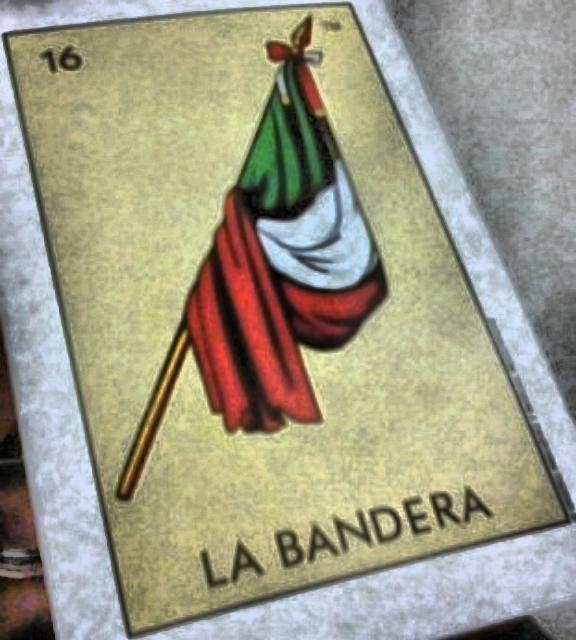La Bandera: (7, 5, 570, 633)
